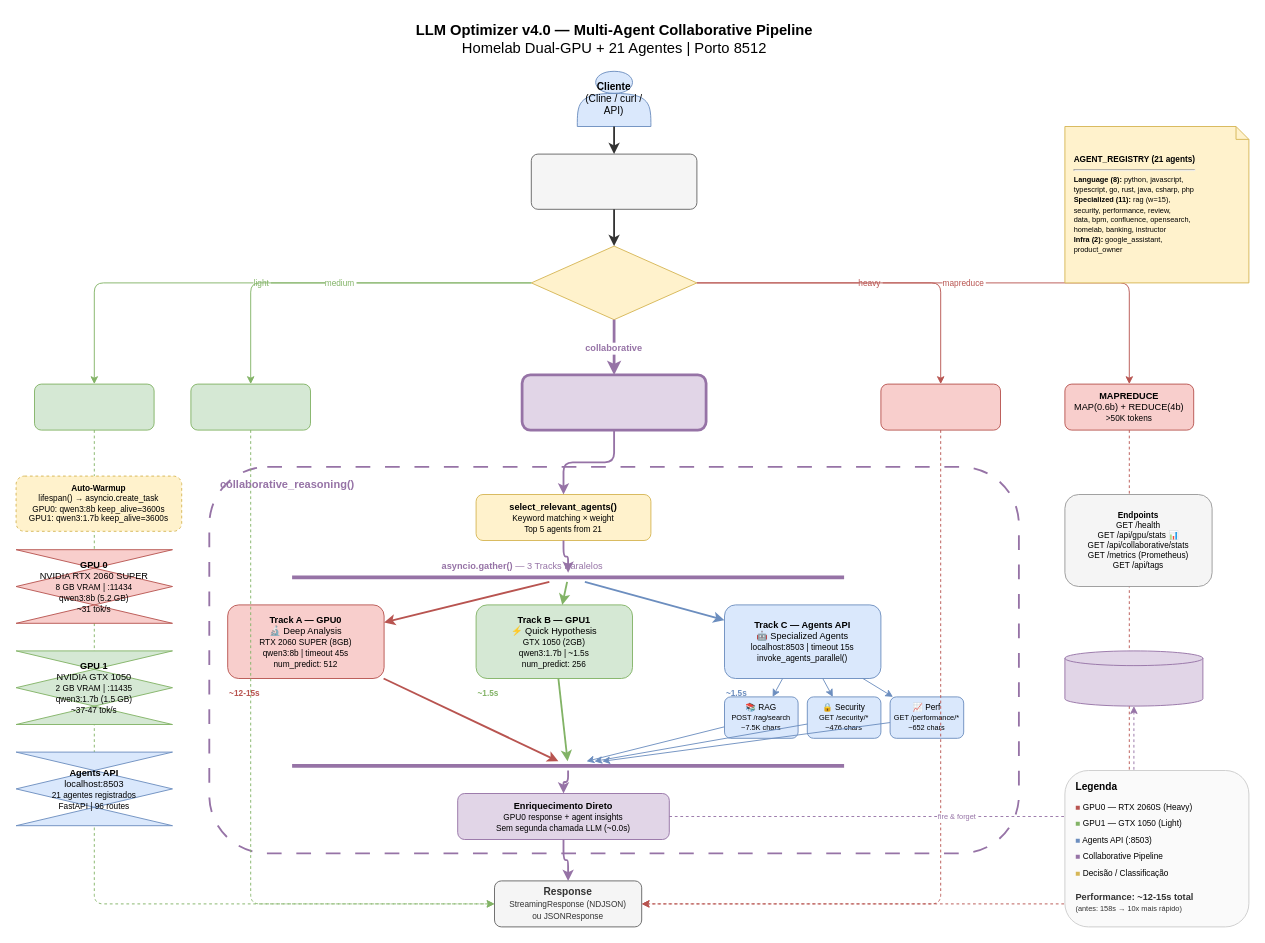
Image size: 1265x943. Some labels were removed from this diagram. Each missing label, with the centre of its shape:
classify_complexity() tokens + patterns + turns: (x=613, y=282)
Communication Bus _fire_and_forget_publish() POST /communication/publish: (x=1133, y=678)
HEAVY GPU0 qwen3:8b tool-calling / >5000 tok: (x=940, y=406)
LIGHT GPU1 qwen3:1.7b <20 tokens: (x=94, y=406)
LLM Optimizer Proxy FastAPI :8512 /api/chat: (x=613, y=181)
MEDIUM GPU1 qwen3:0.6b 20-50 tokens: (x=250, y=406)
⚡ COLLABORATIVE Multi-Agent Pipeline 20-5000 tok + 2+ patterns: (x=613, y=402)
